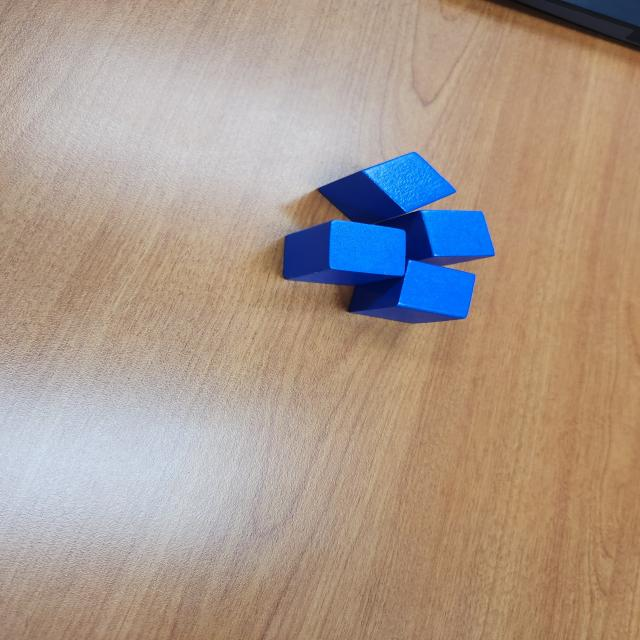blue: (318, 152, 457, 225), (282, 219, 407, 287), (348, 259, 477, 324), (372, 210, 496, 266)
